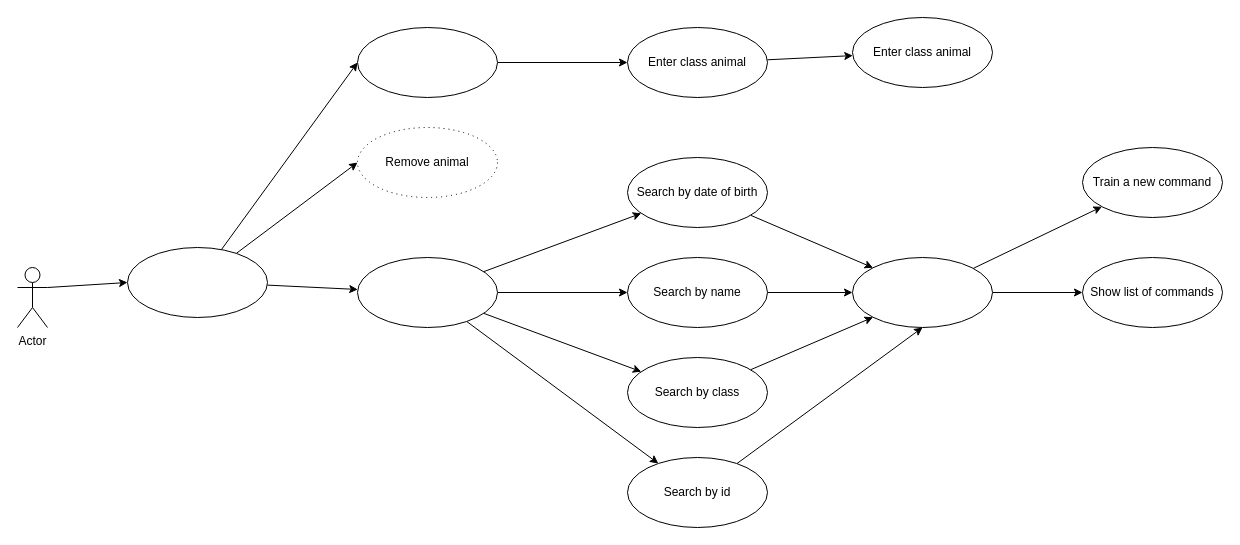
The diagram is 1240 pixels wide and 545 high, and some of its shapes have lost their labels. Each missing label, with the centre of its shape:
Add animal: (x=427, y=62)
Menu: (x=197, y=282)
Search animal: (x=427, y=292)
Take animal: (x=922, y=292)
